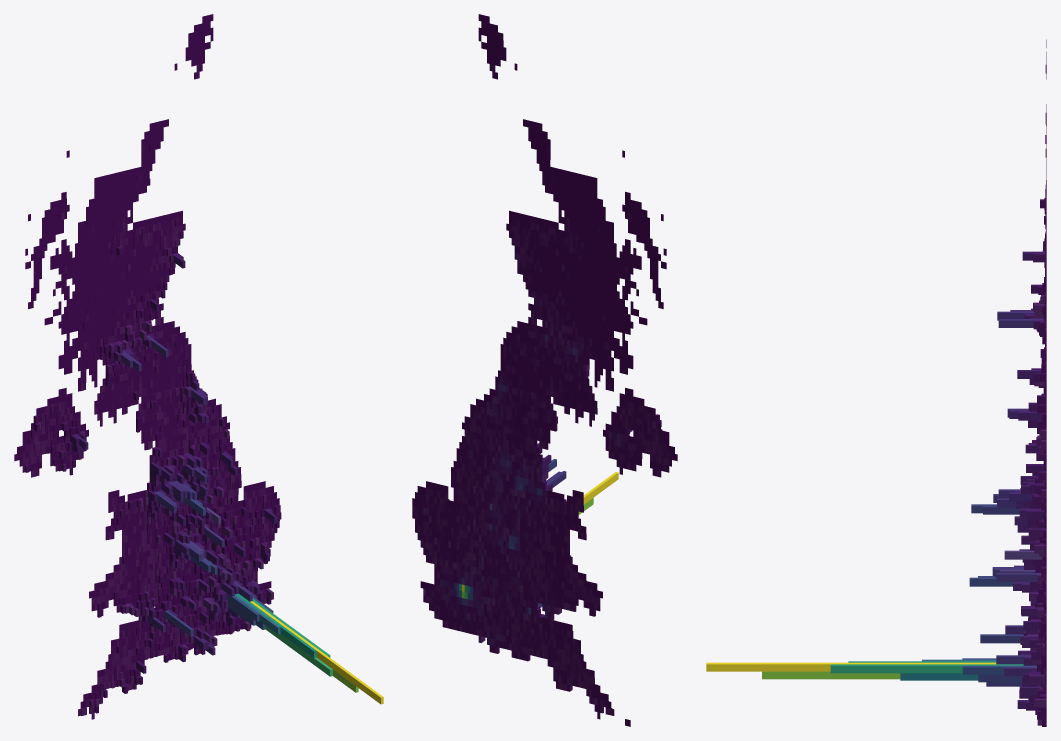
The model's file is gbr_m_25_2020_constrained_UNadj.obj.
3 renders of one model, left to right at view 1: azimuth 30°, elevation 25°; view 2: azimuth 150°, elevation 25°; view 3: azimuth 270°, elevation 25°, orthographic. The views are drawn at different scales.
Size of the model in its own units: 9.96 by 24.24 by 10.
1 material, 1 textured.
